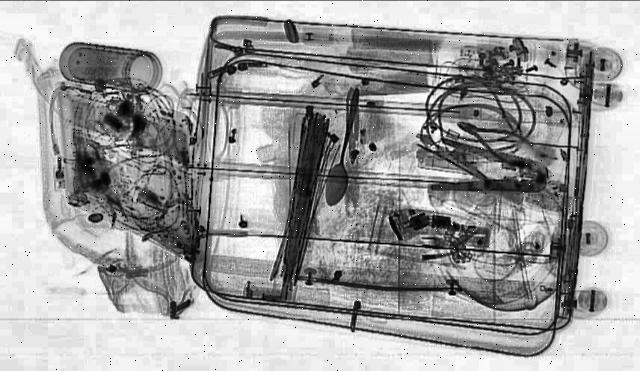Pliers: (421, 138, 559, 202), (441, 114, 549, 168)
